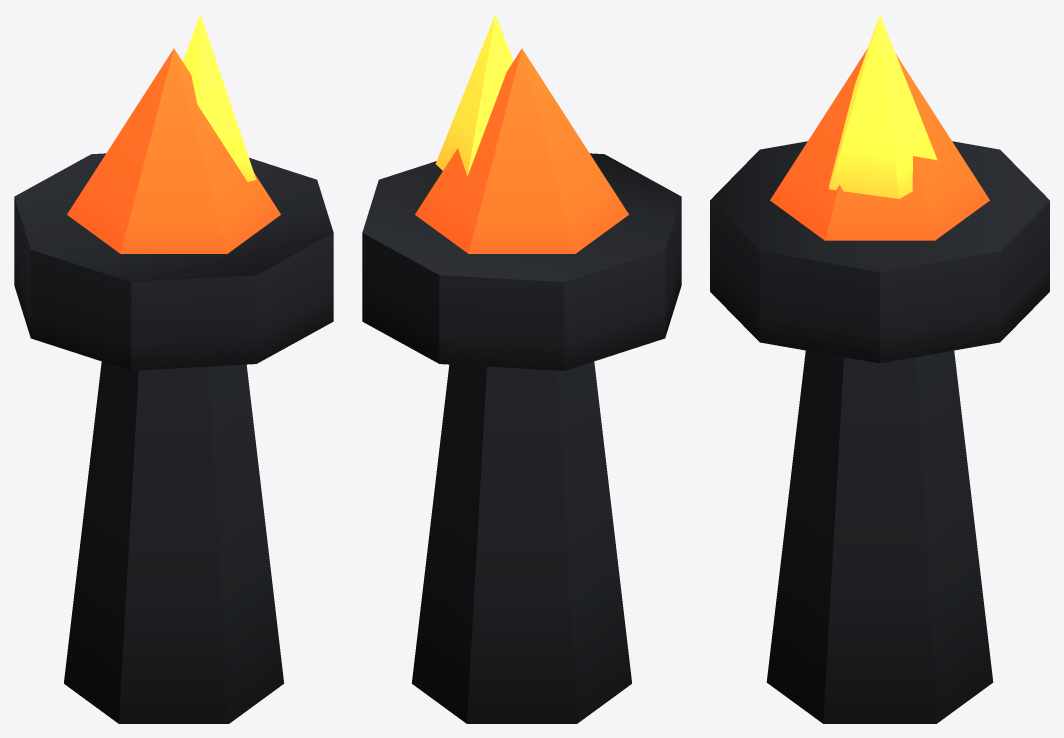
Rendered from iron_brazier.glb.
3 views of the same model, side by side, from view 1: azimuth 30°, elevation 25°; view 2: azimuth 150°, elevation 25°; view 3: azimuth 270°, elevation 25° (orthographic). The views are drawn at different scales.
Parts seen in each view (by area): view 1: iron_brazier; view 2: iron_brazier; view 3: iron_brazier.
Part boxes in pixels (x1,y1,x2,y2): iron_brazier: (14,14,333,723); iron_brazier: (362,14,681,723); iron_brazier: (710,14,1049,723).
Size of the model in its own units: 0.54 by 1.19 by 0.54.
1 material, 1 textured.
